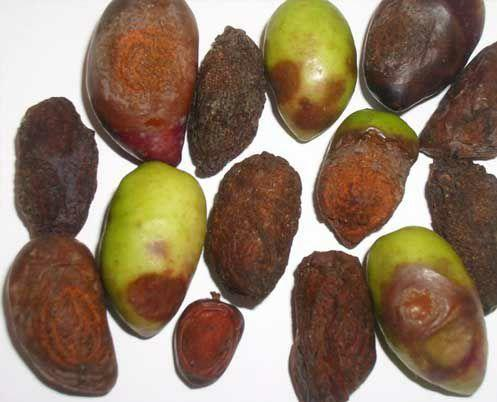Anthracnose: (3, 239, 115, 396), (88, 0, 194, 146), (370, 262, 492, 384), (205, 148, 304, 298), (12, 94, 102, 241), (290, 250, 378, 400), (188, 24, 266, 176), (425, 156, 497, 314), (318, 131, 407, 242), (368, 0, 470, 89), (420, 44, 497, 159), (108, 230, 194, 330), (263, 28, 338, 130)
